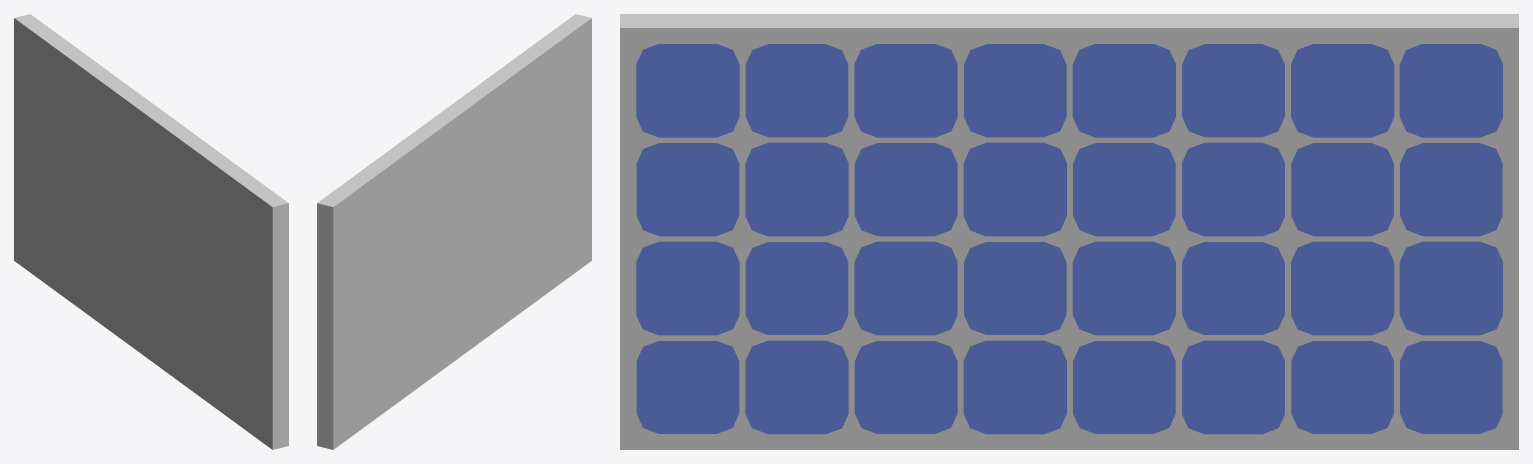
Rendered from solar_unit_1.fbx.
3 renders of one model, left to right at view 1: azimuth 30°, elevation 25°; view 2: azimuth 150°, elevation 25°; view 3: azimuth 270°, elevation 25°, orthographic. The views are drawn at different scales.
Parts seen in each view (by area): view 1: solar_panel.000; view 2: solar_panel.000; view 3: solar_panel.000.
Part boxes in pixels (x1,y1,x2,y2): solar_panel.000: [14, 14, 288, 449]; solar_panel.000: [317, 14, 591, 449]; solar_panel.000: [620, 14, 1518, 449].
Bounding box in the file's own units: 30.33 × 427 × 824.
